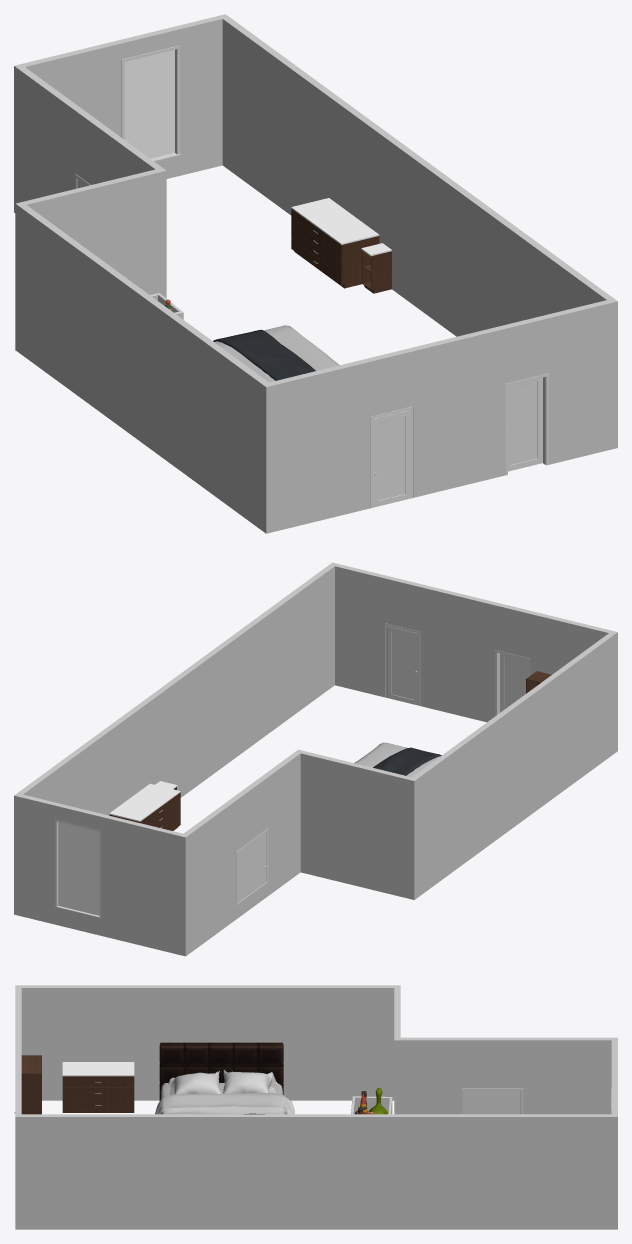
Rendered from BedRoom.glb.
3 views of the same model, one above another, from view 1: azimuth 30°, elevation 25°; view 2: azimuth 150°, elevation 25°; view 3: azimuth 270°, elevation 25° (orthographic). The views are drawn at different scales.
Parts seen in each view (by area): view 1: Wall Mesh.010, Wall Mesh.002, Wall Mesh.001, Wall Mesh.012, Wall Mesh.008, Wall Mesh.007, Wall Mesh.005, Glass, Bed.003_Bed_0, Door Panel.005, Door Panel.002, Part.019 (+4 smaller); view 2: Wall Mesh.010, Wall Mesh.002, Wall Mesh.008, Wall Mesh.005, Wall Mesh.012, Wall Mesh.007, Wall Mesh.001, Glass, Door Panel.002, Bed.003_Bed_0, Door Panel, Part.019 (+3 smaller); view 3: Wall Mesh.010, Wall Mesh.002, Wall Mesh.007, Bed.003_Bed_0, Door Panel, Carcass.001, Part.010, Part.003, Part.002, Part.004, Wall Mesh.008, Wall Mesh.001 (+3 smaller).
Part boxes in pixels (x1=…): Wall Mesh.010: x1=222, y1=14, x2=617, y2=336; Wall Mesh.002: x1=15, y1=203, x2=268, y2=533; Wall Mesh.001: x1=266, y1=340, x2=448, y2=533; Wall Mesh.012: x1=444, y1=300, x2=617, y2=489; Wall Mesh.008: x1=14, y1=14, x2=225, y2=178; Wall Mesh.007: x1=14, y1=66, x2=165, y2=212; Wall Mesh.005: x1=16, y1=169, x2=166, y2=298; Glass: x1=124, y1=49, x2=174, y2=158; Bed.003_Bed_0: x1=213, y1=325, x2=339, y2=382; Door Panel.005: x1=373, y1=410, x2=410, y2=507; Door Panel.002: x1=508, y1=377, x2=542, y2=471; Part.019: x1=291, y1=198, x2=379, y2=244; Wall Mesh.010: x1=14, y1=562, x2=334, y2=815; Wall Mesh.002: x1=412, y1=632, x2=617, y2=899; Wall Mesh.008: x1=14, y1=794, x2=185, y2=956; Wall Mesh.005: x1=298, y1=749, x2=414, y2=899; Wall Mesh.012: x1=332, y1=562, x2=469, y2=717; Wall Mesh.007: x1=183, y1=750, x2=300, y2=955; Wall Mesh.001: x1=467, y1=596, x2=617, y2=722; Glass: x1=58, y1=821, x2=99, y2=915; Door Panel.002: x1=387, y1=626, x2=418, y2=705; Bed.003_Bed_0: x1=354, y1=742, x2=441, y2=777; Door Panel: x1=237, y1=832, x2=266, y2=903; Part.019: x1=109, y1=783, x2=180, y2=821; Wall Mesh.010: x1=15, y1=1114, x2=617, y2=1229; Wall Mesh.002: x1=16, y1=985, x2=399, y2=1100; Wall Mesh.007: x1=394, y1=1037, x2=617, y2=1114; Bed.003_Bed_0: x1=155, y1=1042, x2=294, y2=1114; Door Panel: x1=465, y1=1091, x2=520, y2=1114; Carcass.001: x1=21, y1=1055, x2=41, y2=1114; Part.010: x1=62, y1=1062, x2=134, y2=1076; Part.003: x1=62, y1=1087, x2=134, y2=1099; Part.002: x1=62, y1=1076, x2=134, y2=1087; Part.004: x1=62, y1=1099, x2=134, y2=1110; Wall Mesh.008: x1=611, y1=1038, x2=617, y2=1116; Wall Mesh.001: x1=15, y1=985, x2=21, y2=1053.
Bounding box in the file's own units: 10.04 × 4.05 × 19.45.
14 materials, 6 textured.
